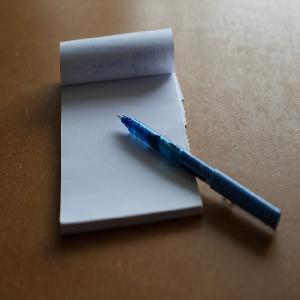pen: (112, 112, 286, 231)
